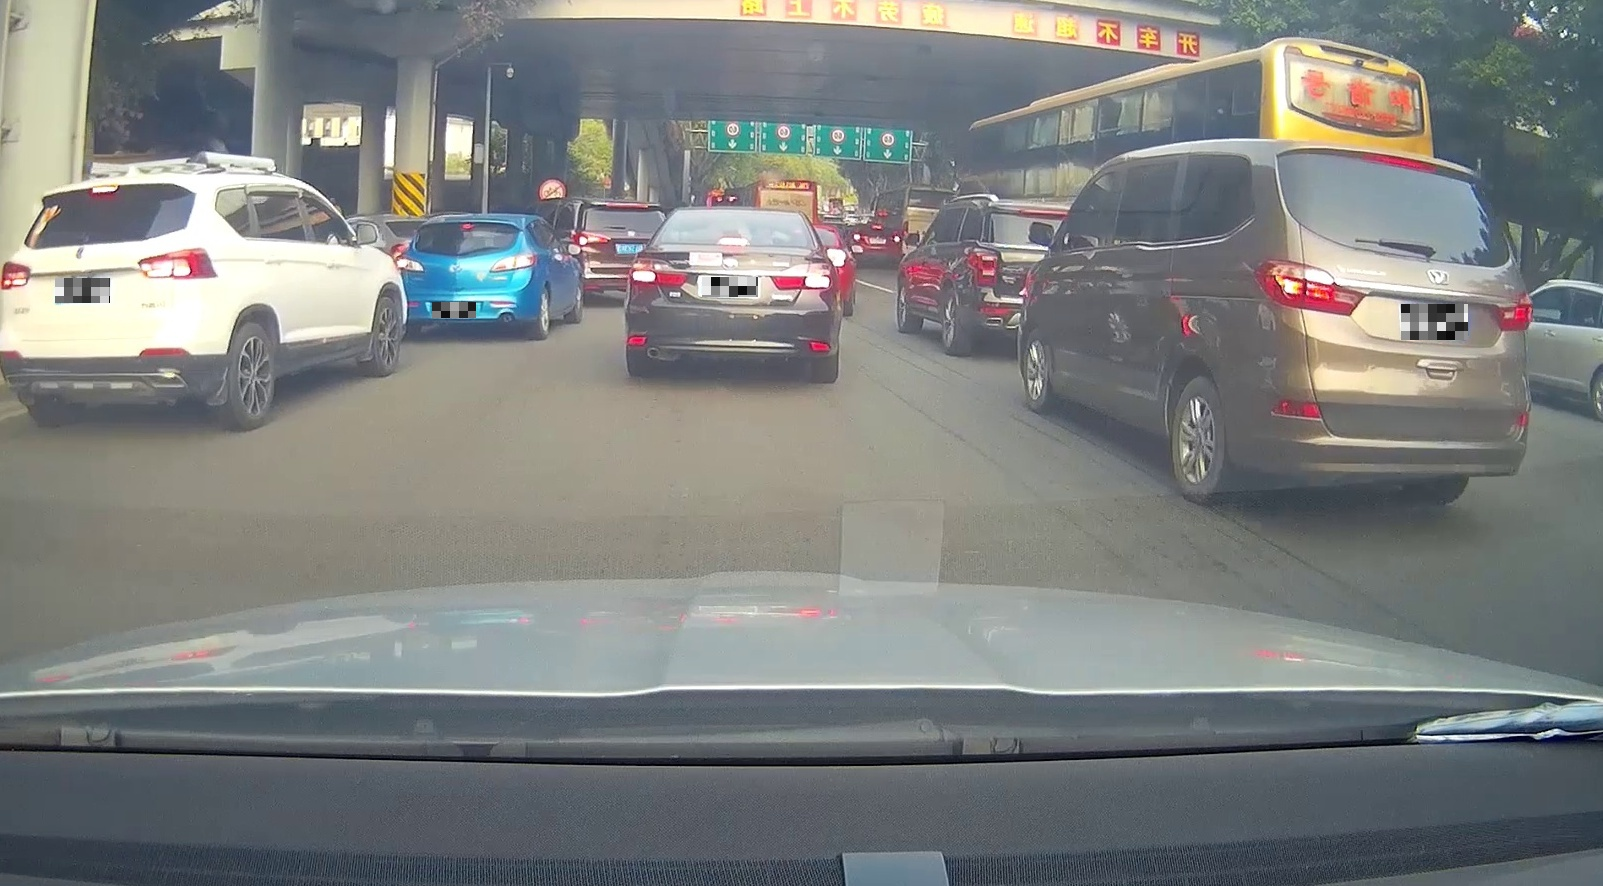L_light: (1253, 258, 1367, 316), (629, 258, 687, 287), (0, 260, 32, 290), (398, 258, 424, 272)
R_light: (137, 246, 218, 280), (771, 262, 831, 290), (1490, 290, 1531, 330), (490, 252, 535, 272)
T_light: (1360, 149, 1437, 173), (718, 238, 750, 246), (92, 185, 118, 194), (460, 223, 474, 229)
day-brake: (1248, 139, 1532, 505), (0, 173, 225, 426), (625, 207, 839, 383), (398, 214, 540, 342)
plate_1: (55, 278, 110, 303)
plate_2: (432, 302, 477, 318)
plate_3: (702, 277, 758, 297)
plate_4: (1401, 304, 1468, 340)
